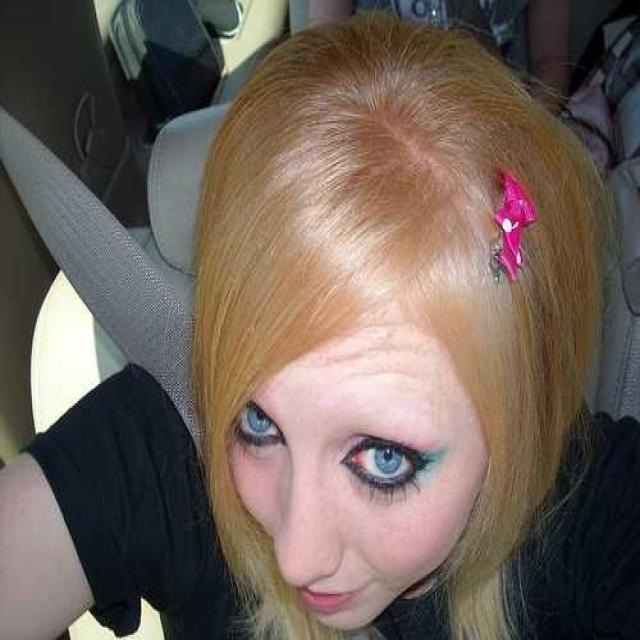seatbelt: (3, 102, 190, 420)
